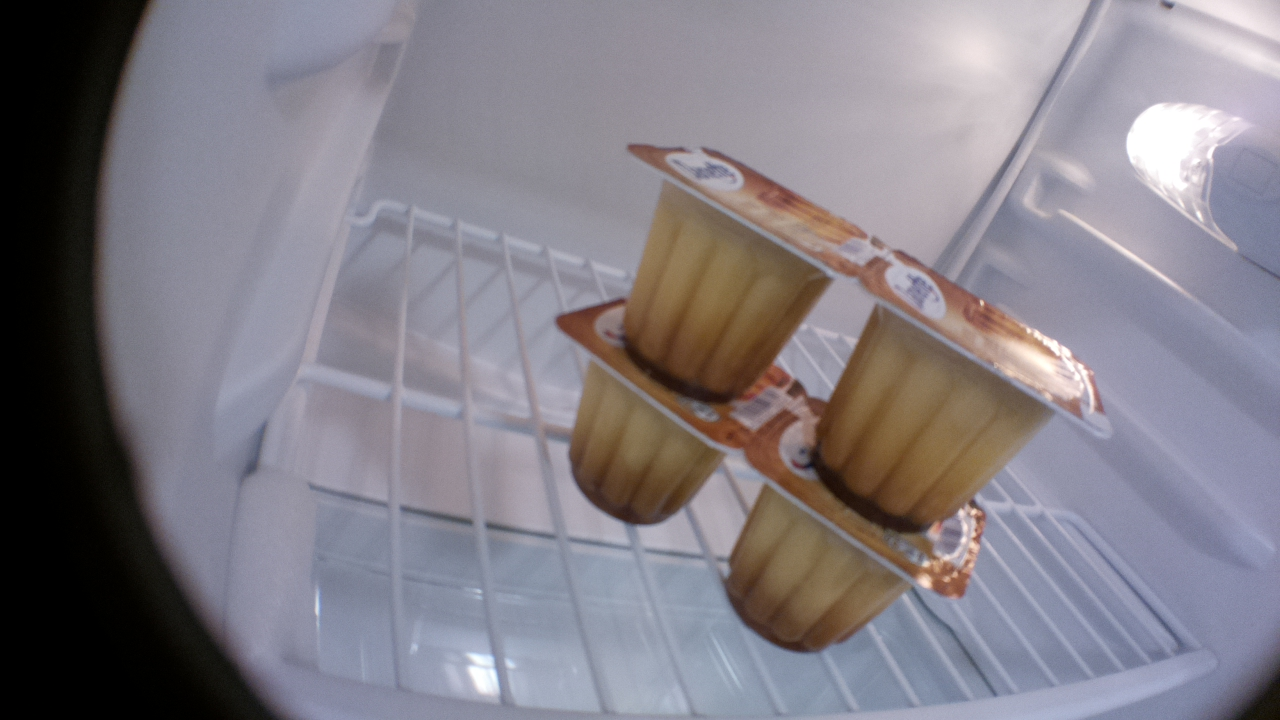caramel: (808, 242, 1115, 534), (723, 404, 986, 653), (623, 131, 861, 399), (553, 306, 773, 526)
